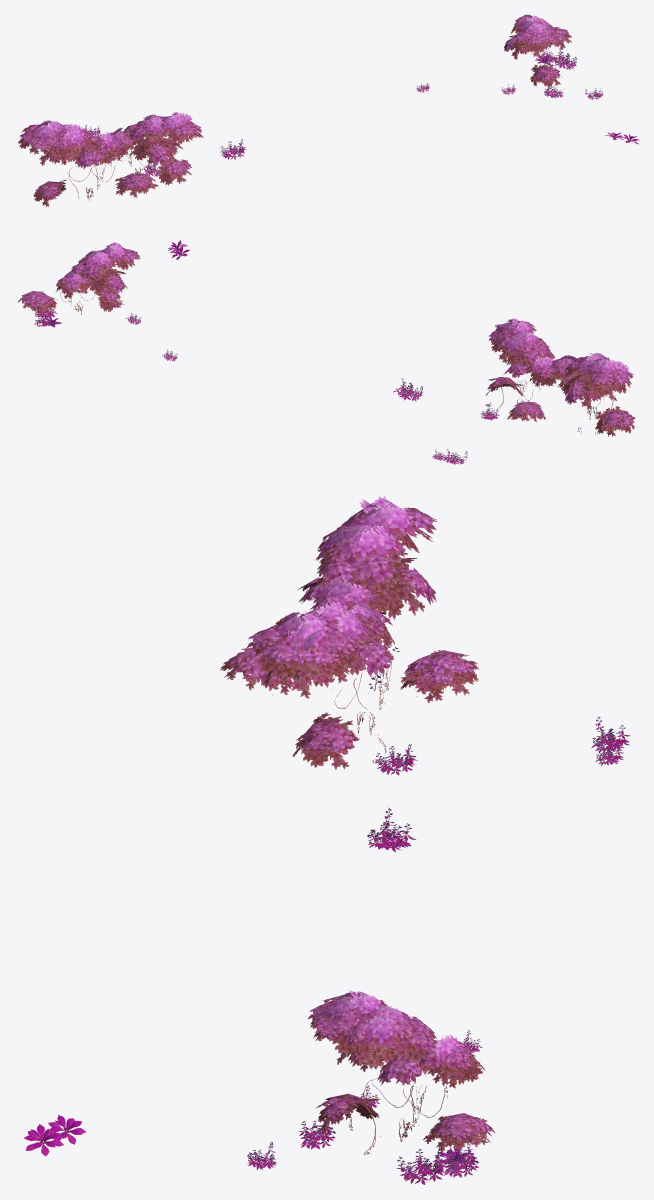
The model's file is zhibei16_1.FBX.
3 renders of one model, top to bottom at view 1: azimuth 30°, elevation 25°; view 2: azimuth 150°, elevation 25°; view 3: azimuth 270°, elevation 25°, orthographic. The views are drawn at different scales.
Parts seen in each view (by area): view 1: zhibei16_1; view 2: zhibei16_1; view 3: zhibei16_1.
Part boxes in pixels (bbox=[...]): zhibei16_1: bbox=[18, 14, 639, 206]; zhibei16_1: bbox=[18, 240, 635, 464]; zhibei16_1: bbox=[23, 496, 630, 1184].
Size of the model in its own units: 6795 by 953 by 3136.
